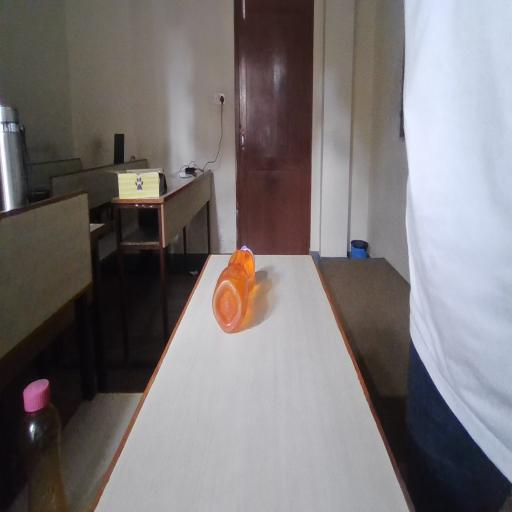Bottle: (209, 209, 280, 355), (15, 364, 84, 497)
